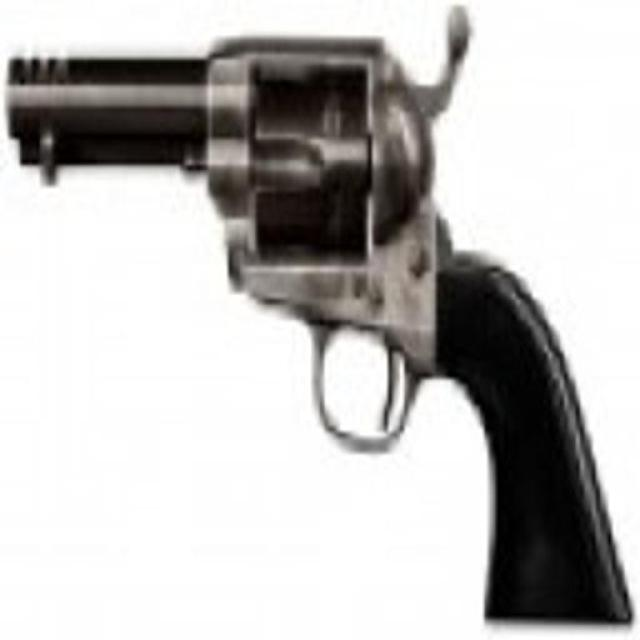pistol: (3, 10, 631, 640)
